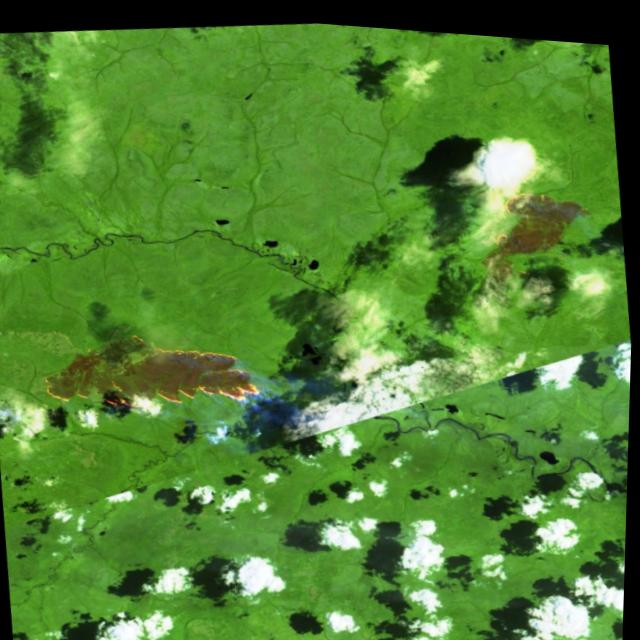fire: (29, 299, 300, 435), (463, 169, 590, 289)
